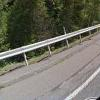Tree: (4, 2, 92, 35)
